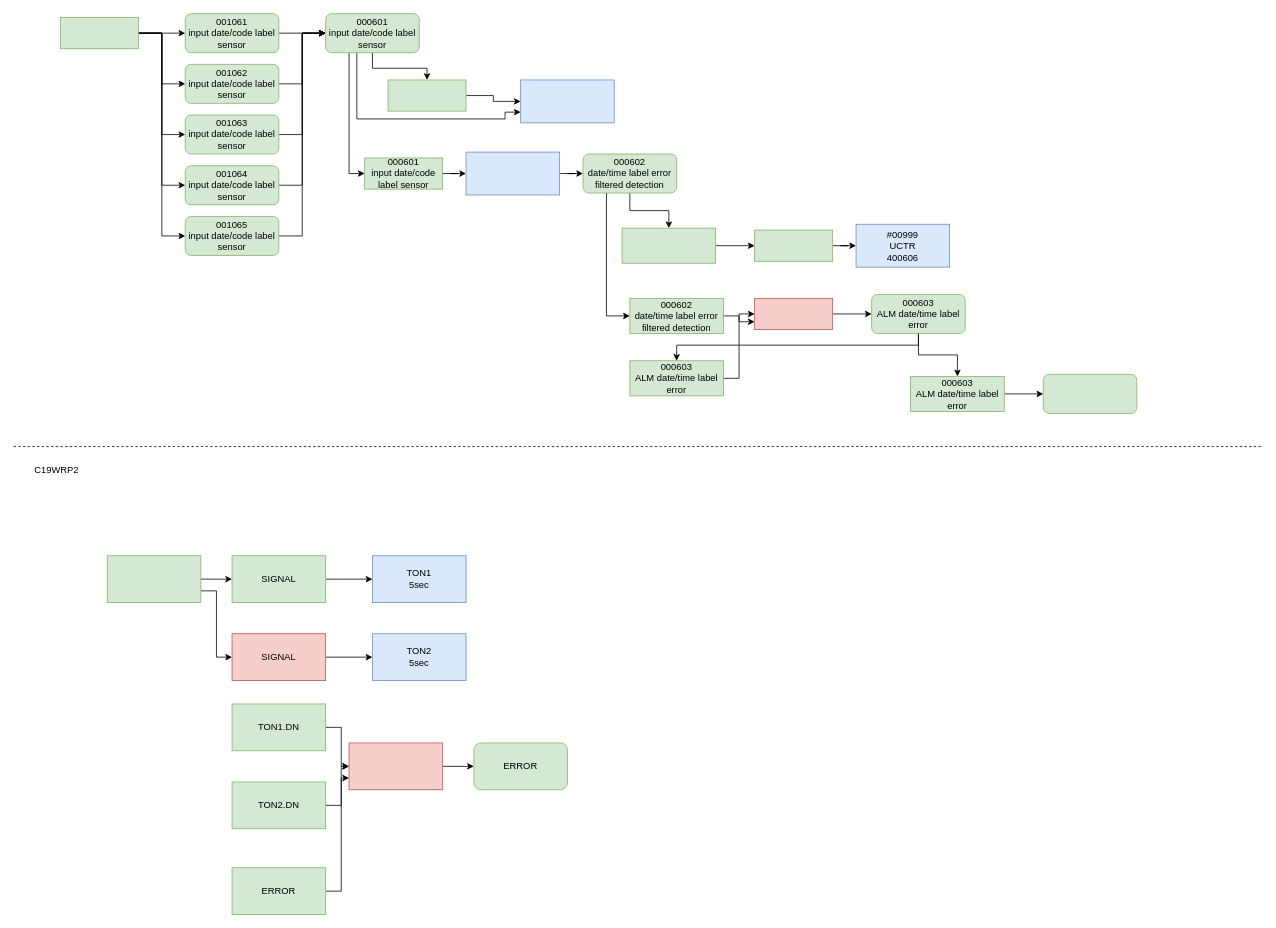
The diagram is 1276 pixels wide and 928 high, and some of its shapes have lost their labels. Here are the shapes that lost their labels. From the top down, the box of each, then its label:
(60, 17, 138, 49): 100060 input date/code label sensor
(387, 79, 466, 111): 000601 |P| input date/code label sensor
(520, 79, 614, 123): #00999 UCTR 400608
(465, 151, 560, 195): 400604 T.01 400603
(621, 227, 716, 263): 000602 |P| date/time label error filtered detection
(754, 229, 833, 261): 001305 Wrapper in production
(754, 298, 833, 330): 001301 W_RESET
(1042, 374, 1137, 413): 001323 WRAPPER CRITICAL ERROR
(106, 555, 201, 603): PRODUCTION
(348, 742, 443, 790): Reset
